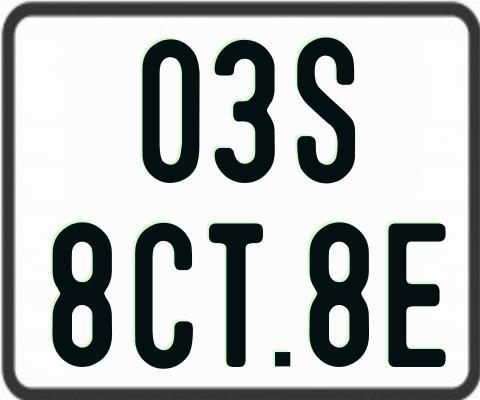0: (141, 38, 200, 186)
3: (212, 37, 274, 181)
8: (307, 220, 370, 370), (52, 220, 112, 366)
C: (133, 223, 193, 369)
E: (385, 220, 447, 366)
S: (296, 35, 357, 182)
T: (207, 220, 266, 365)
